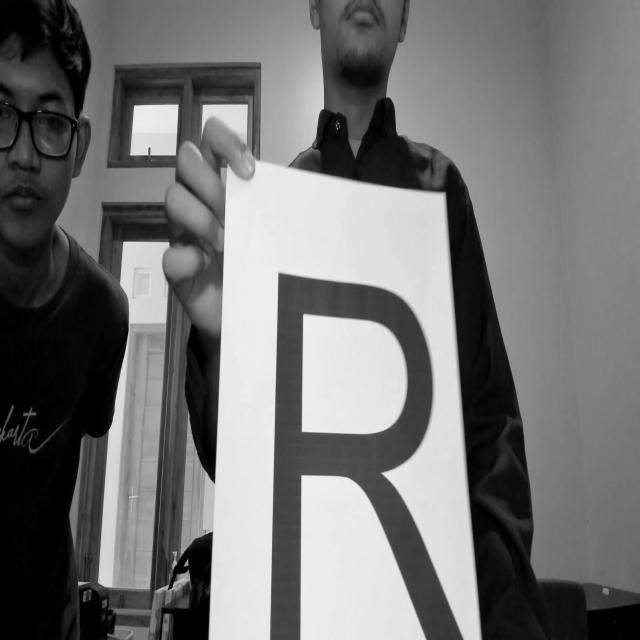r: (256, 234, 484, 640)
